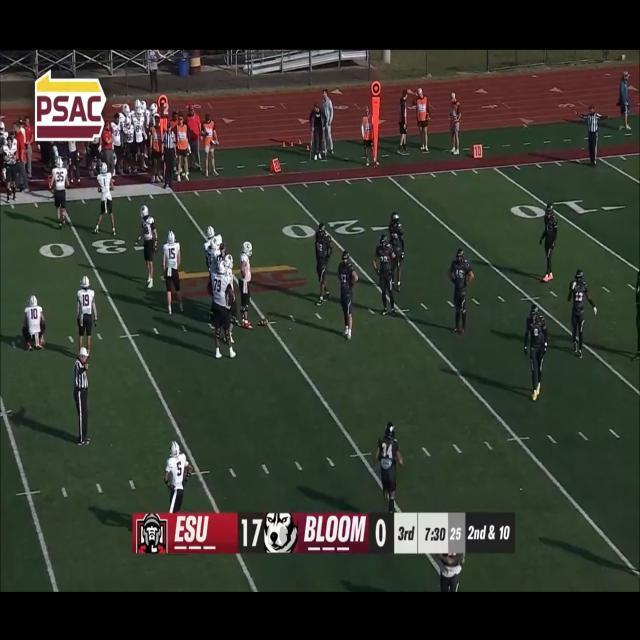football: (257, 318, 269, 328)
